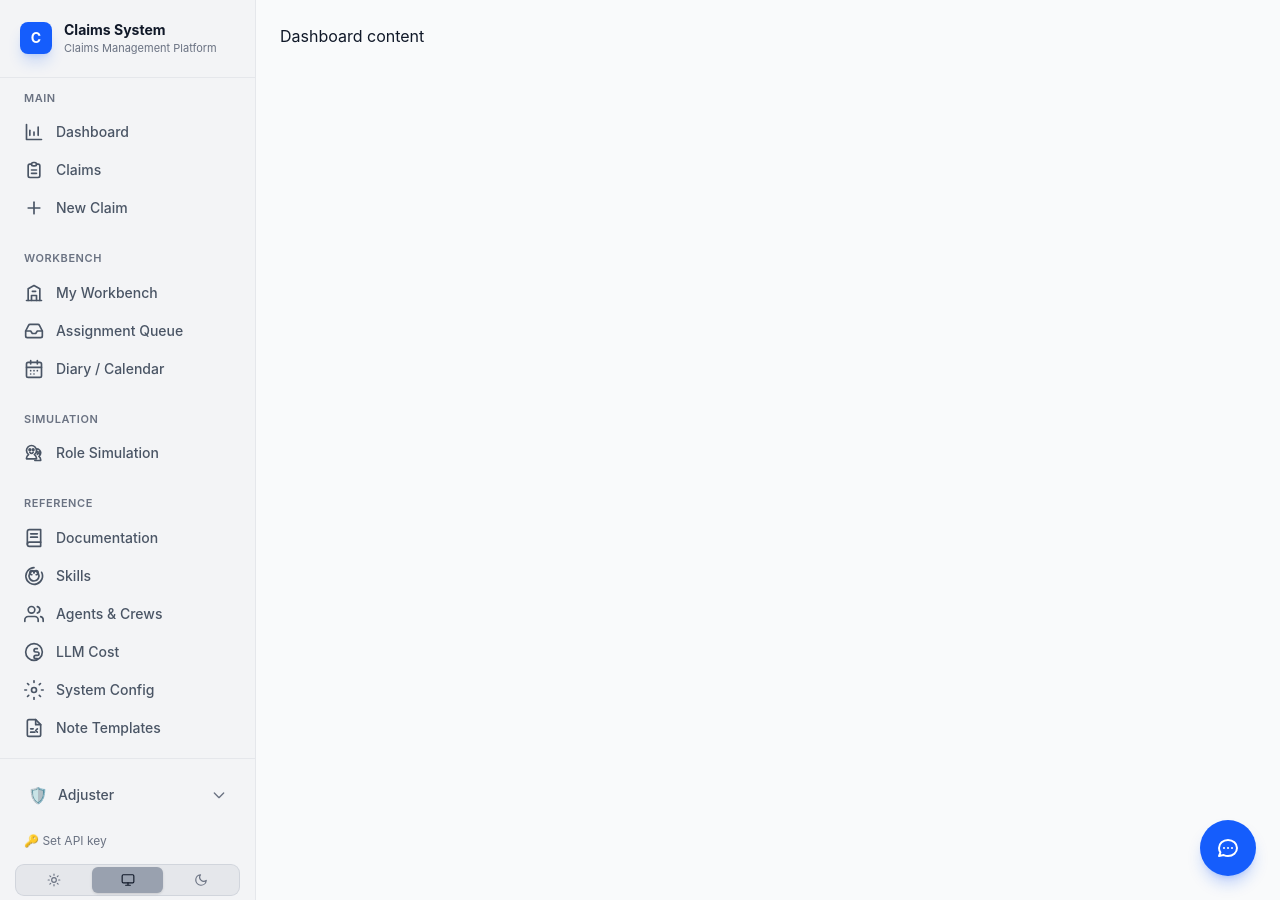
Layout › navigates to claims when link clicked
The image size is (1280, 900).
What coordinates should you click on to do the following:
click the link "Claims"
I would click on:
 (63, 170)
Its box is [24,160,101,180].
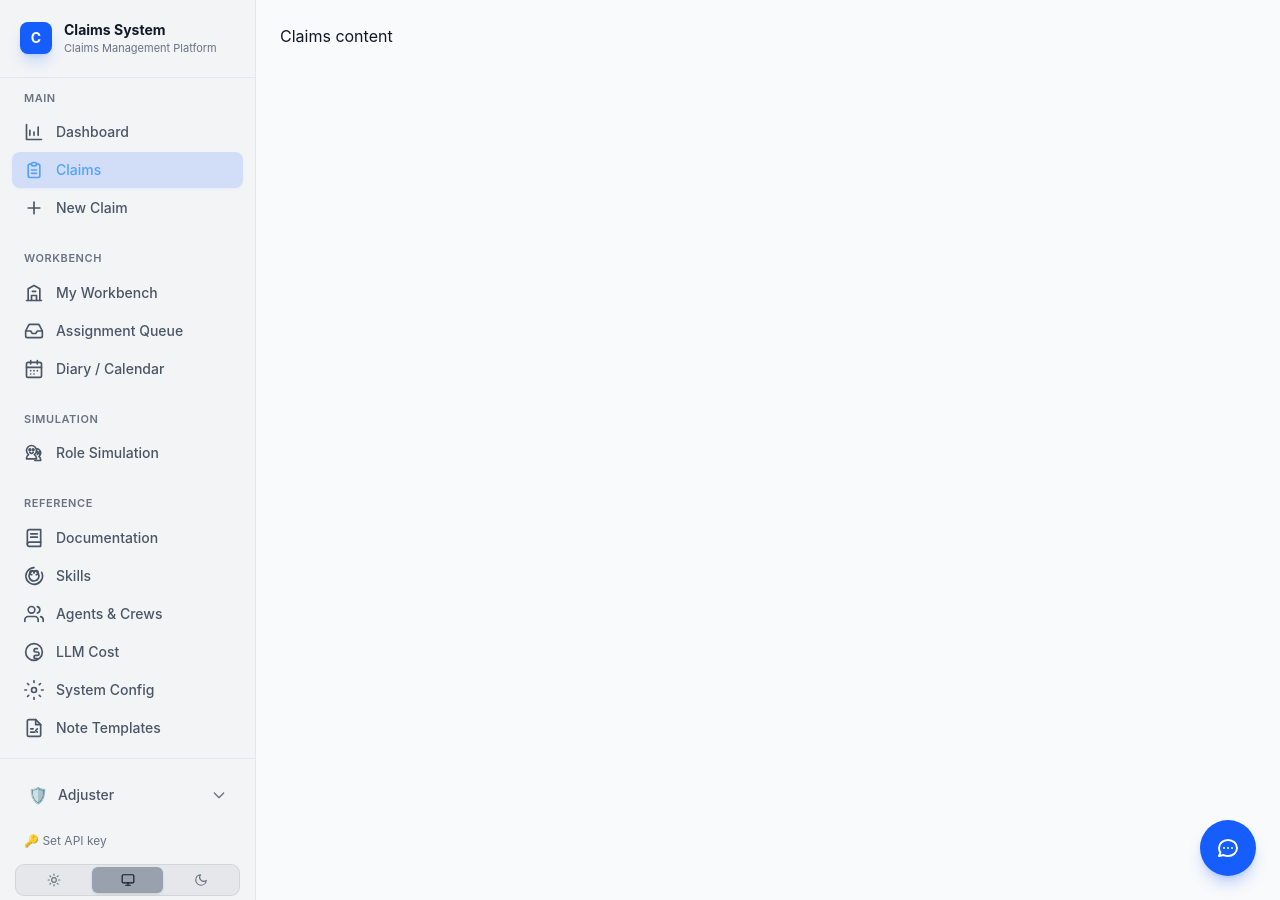
Now the text "Claims content" is shown, box [280,26,393,46]
